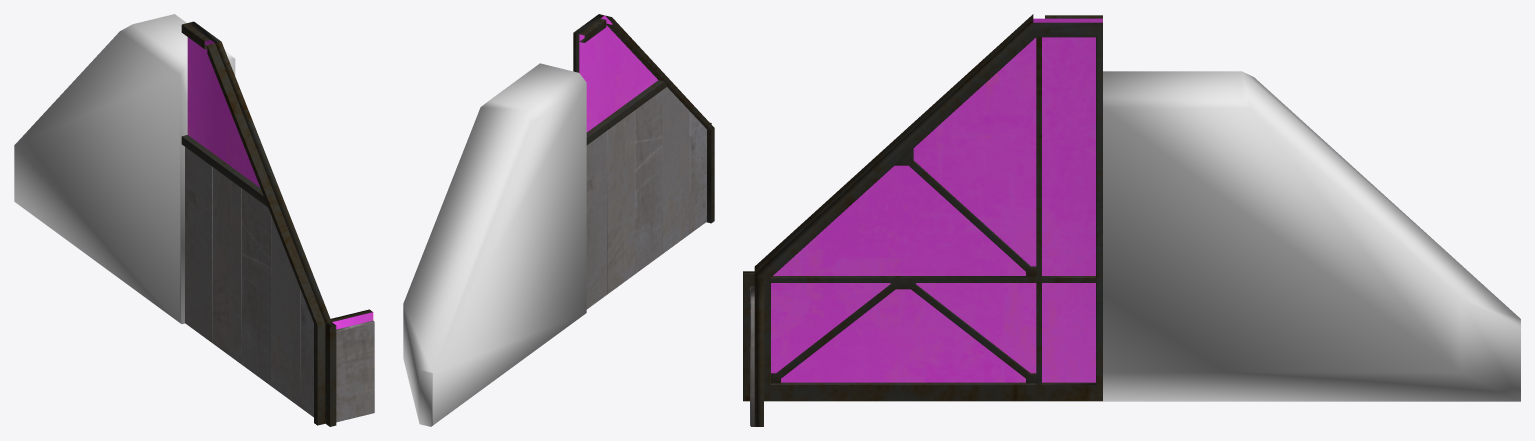
Rendered from SM_Wall_Slope.fbx.
3 views of the same model, side by side, from view 1: azimuth 30°, elevation 25°; view 2: azimuth 150°, elevation 25°; view 3: azimuth 270°, elevation 25° (orthographic). The views are drawn at different scales.
Visible parts, largest first — view 1: SM_Wall_Slope, SM_Wall_Slope_ConvexHulls; view 2: SM_Wall_Slope_ConvexHulls, SM_Wall_Slope; view 3: SM_Wall_Slope_ConvexHulls, SM_Wall_Slope.
Boxes of the visible parts, <box> form: SM_Wall_Slope: <box>181,21,374,426</box>; SM_Wall_Slope_ConvexHulls: <box>14,14,235,323</box>; SM_Wall_Slope_ConvexHulls: <box>403,63,586,426</box>; SM_Wall_Slope: <box>573,14,714,309</box>; SM_Wall_Slope_ConvexHulls: <box>1103,71,1520,401</box>; SM_Wall_Slope: <box>743,14,1102,426</box>.
Bounding box in the file's own units: 1.75 × 9 × 16.75.
